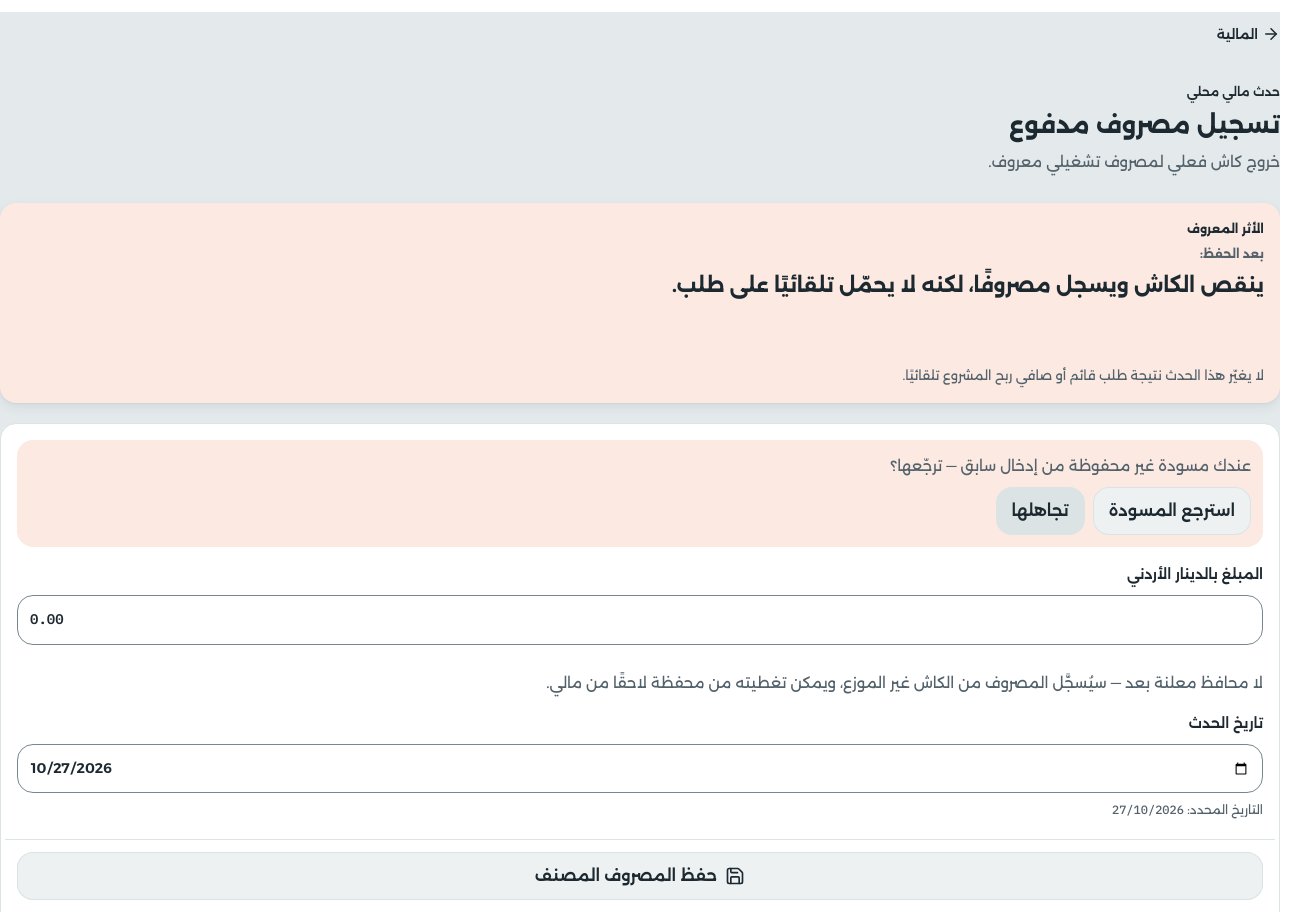
Test: ARCH-012-NF-002 — editor restore/autosave lifecycle is race-free (unified follow-up 2026-10-16) › a failed autosave after restore preserves the draft and announces the failure honestly
Expected: the text "عندك مسودة غير محفوظة من إدخال سابق — ترجّعها؟" is shown, x1=891 y1=456 x2=1251 y2=475
Click the button "استرجع المسودة" at (1172, 511), box x1=1093 y1=487 x2=1251 y2=535
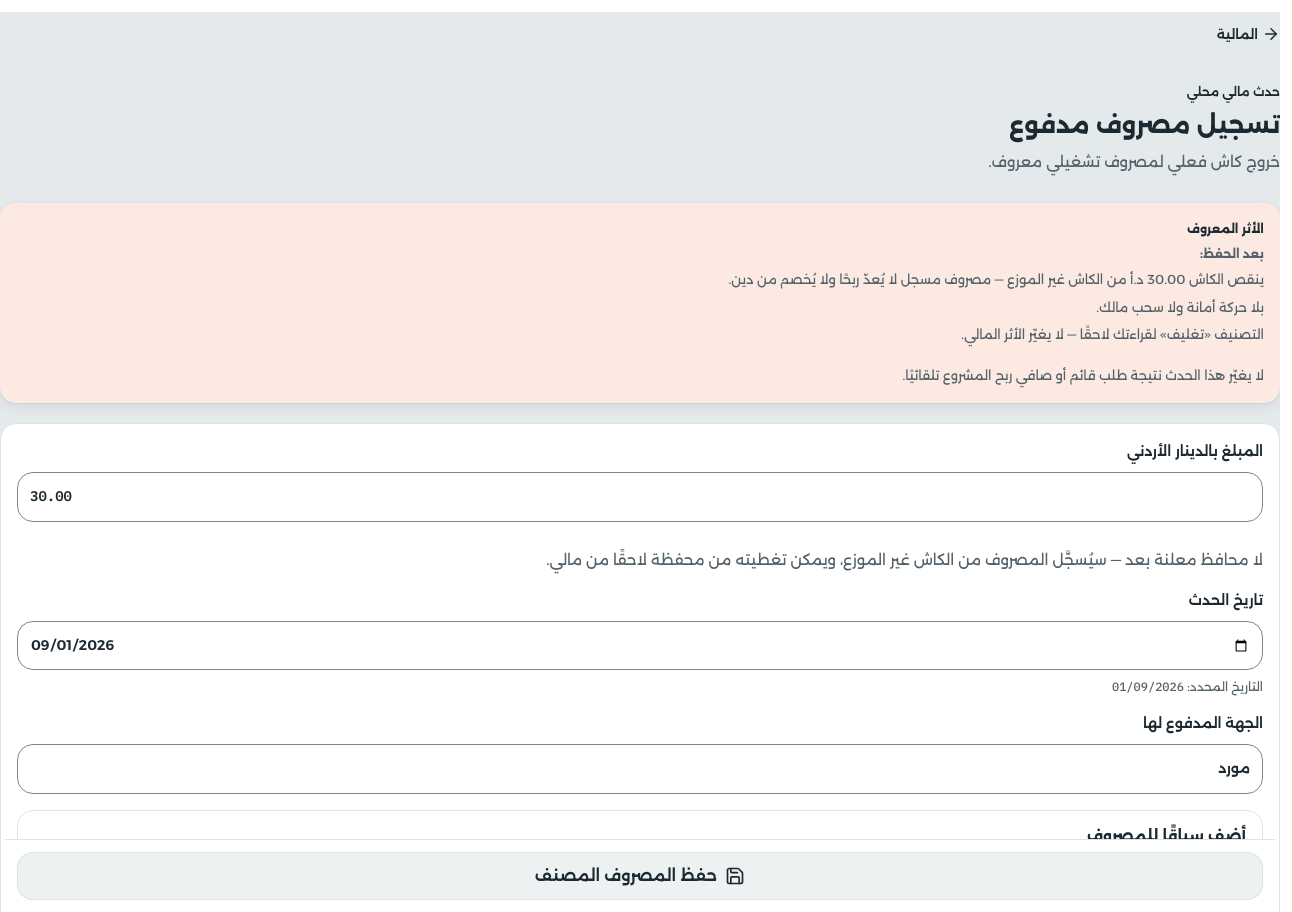
Replace the text in the field labelled "المبلغ بالدينار الأردني" with "99" at (640, 497), box x1=17 y1=472 x2=1263 y2=522
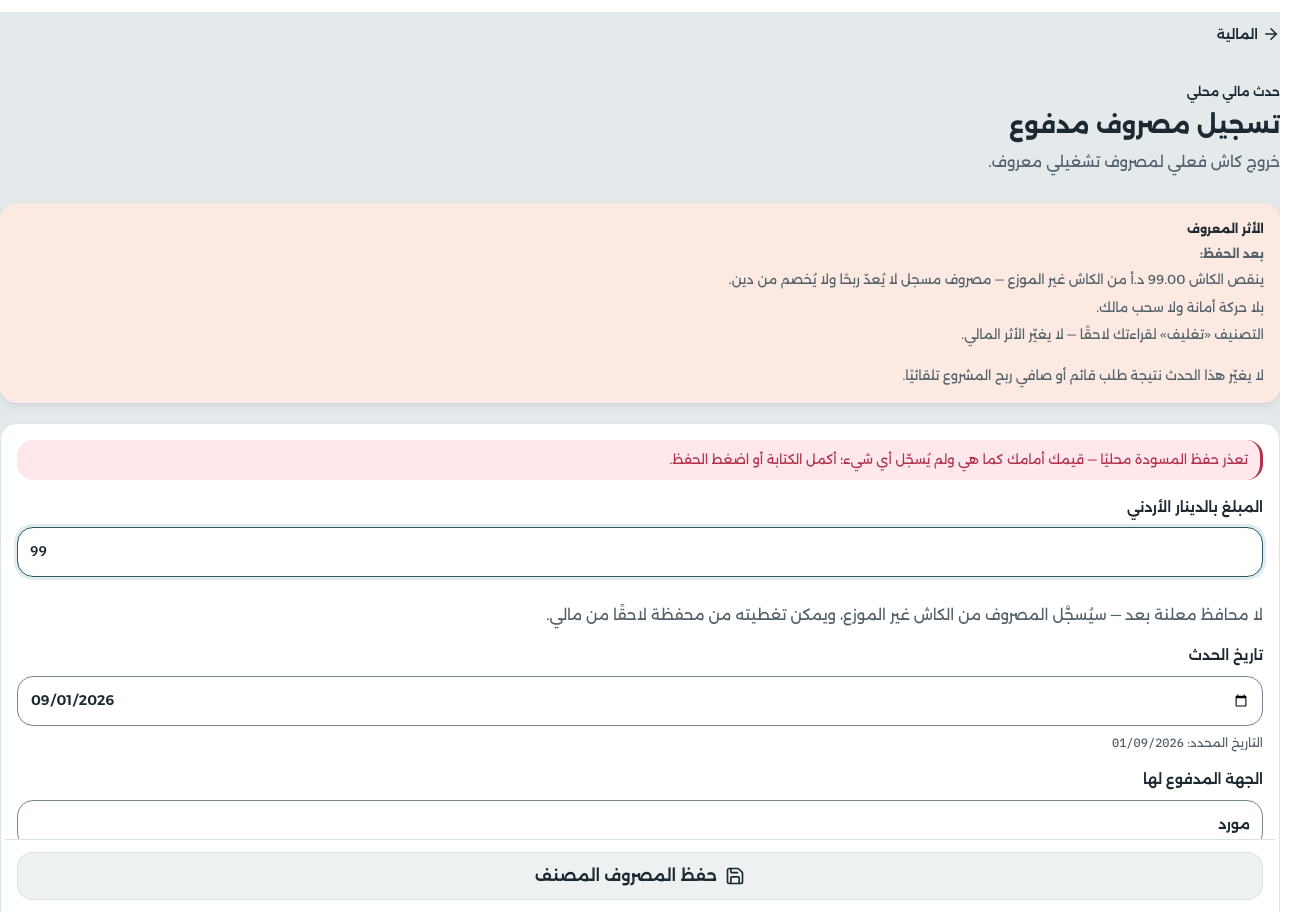
Expected: the text "تعذر حفظ المسودة محليًا" is shown, x1=670 y1=451 x2=1248 y2=467
